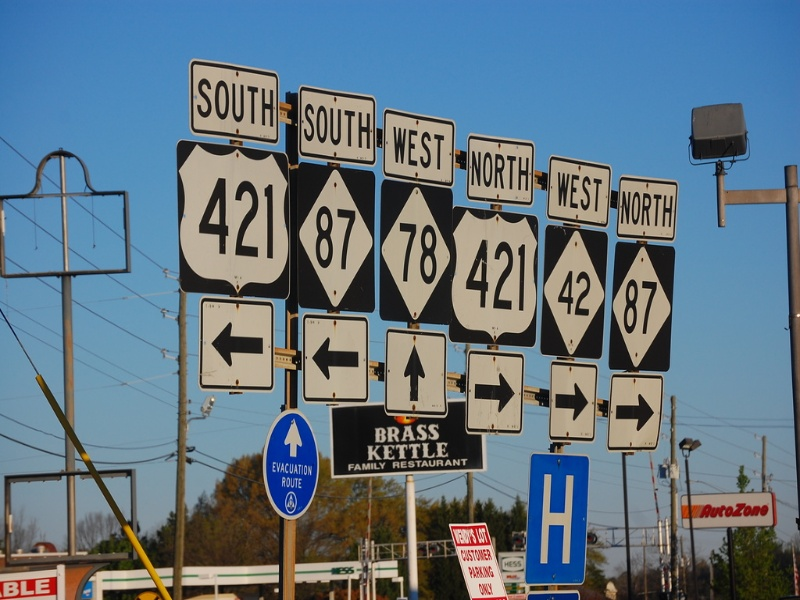left_direction: (204, 315, 271, 370), (308, 330, 362, 385)
right_direction: (472, 368, 519, 415), (614, 388, 656, 434), (553, 377, 592, 426)
straight_direction: (397, 338, 431, 407), (280, 414, 306, 460)
